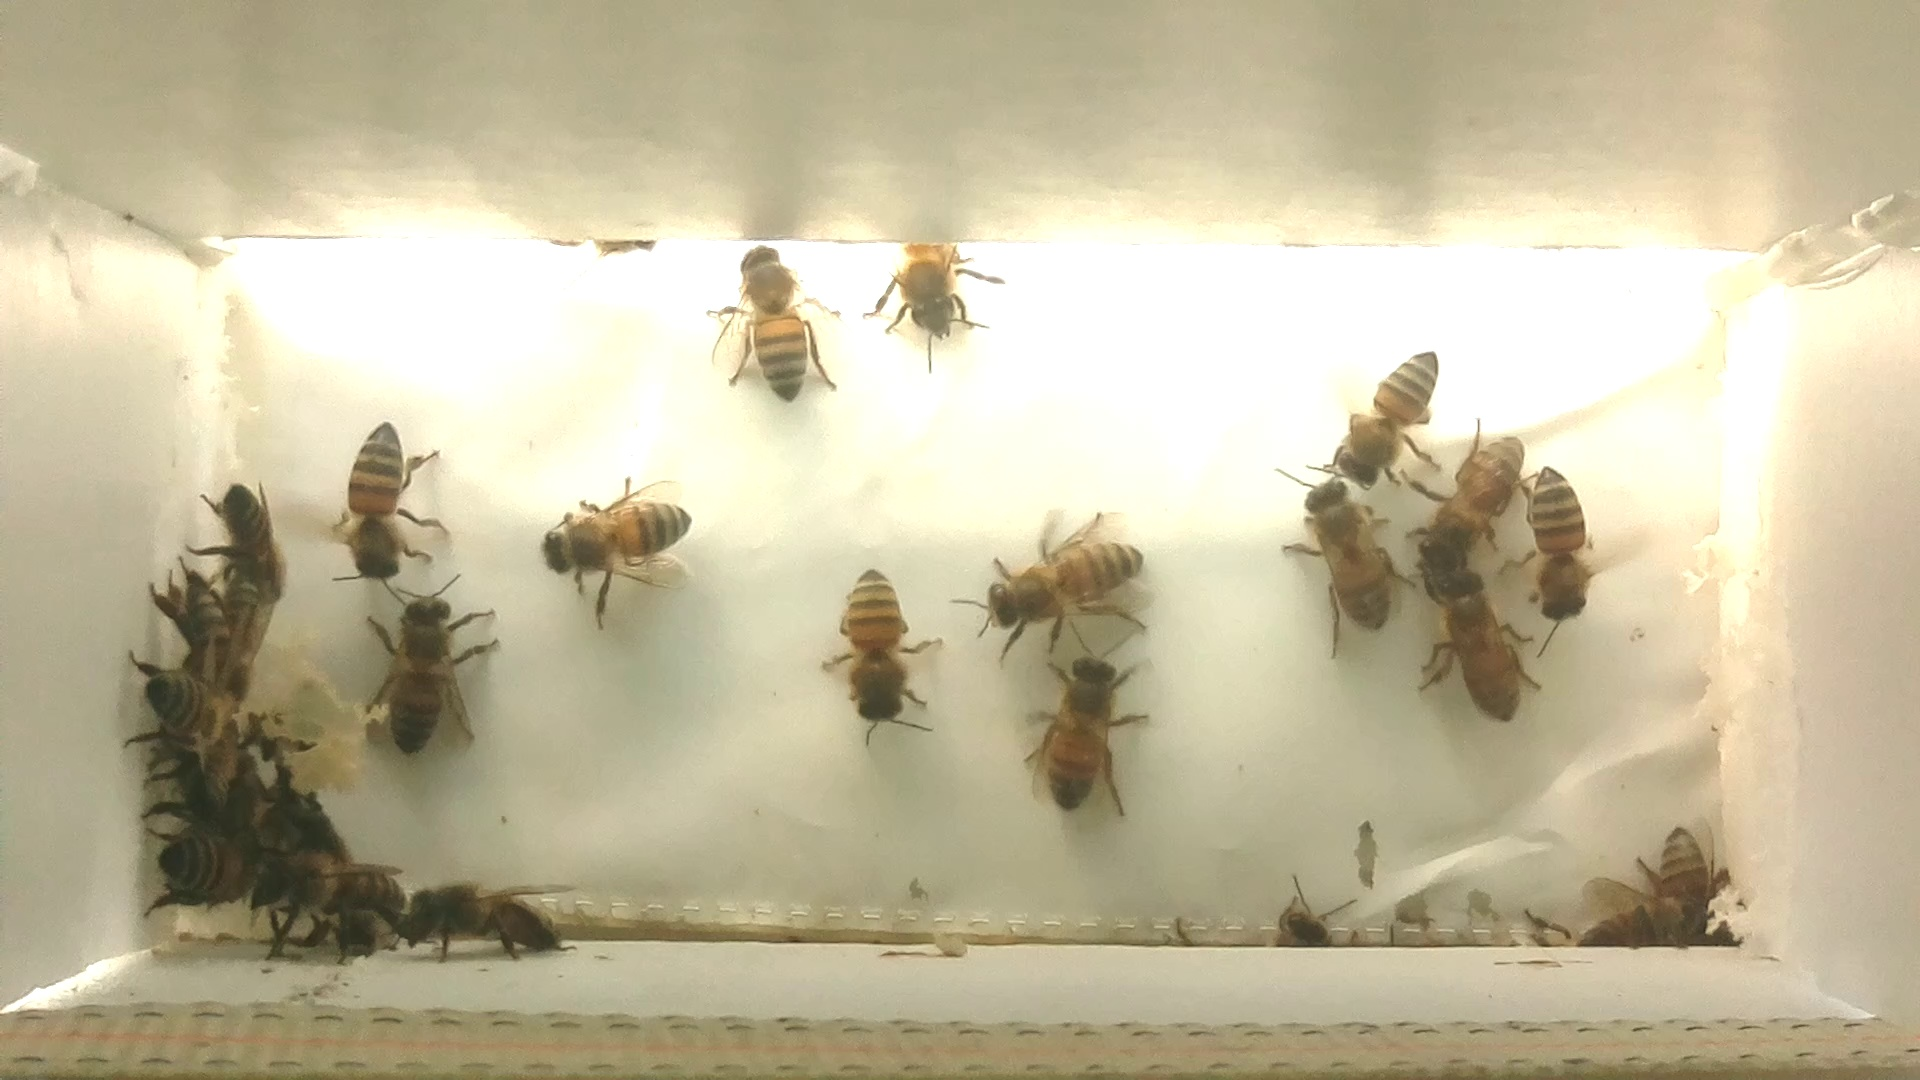bee: (944, 500, 1178, 665), (1004, 603, 1158, 837), (303, 410, 472, 601), (517, 465, 709, 629), (691, 236, 857, 419), (1273, 463, 1427, 655), (353, 568, 506, 760), (803, 555, 947, 750), (1305, 324, 1458, 506), (1389, 415, 1536, 595), (1412, 560, 1557, 735), (862, 220, 1019, 375), (1491, 456, 1614, 647), (183, 473, 305, 611), (398, 868, 579, 956), (104, 646, 244, 760), (257, 858, 421, 955), (1629, 819, 1742, 953), (124, 818, 268, 918), (1543, 869, 1702, 959), (160, 571, 272, 690), (135, 738, 252, 829), (1265, 870, 1362, 949)
